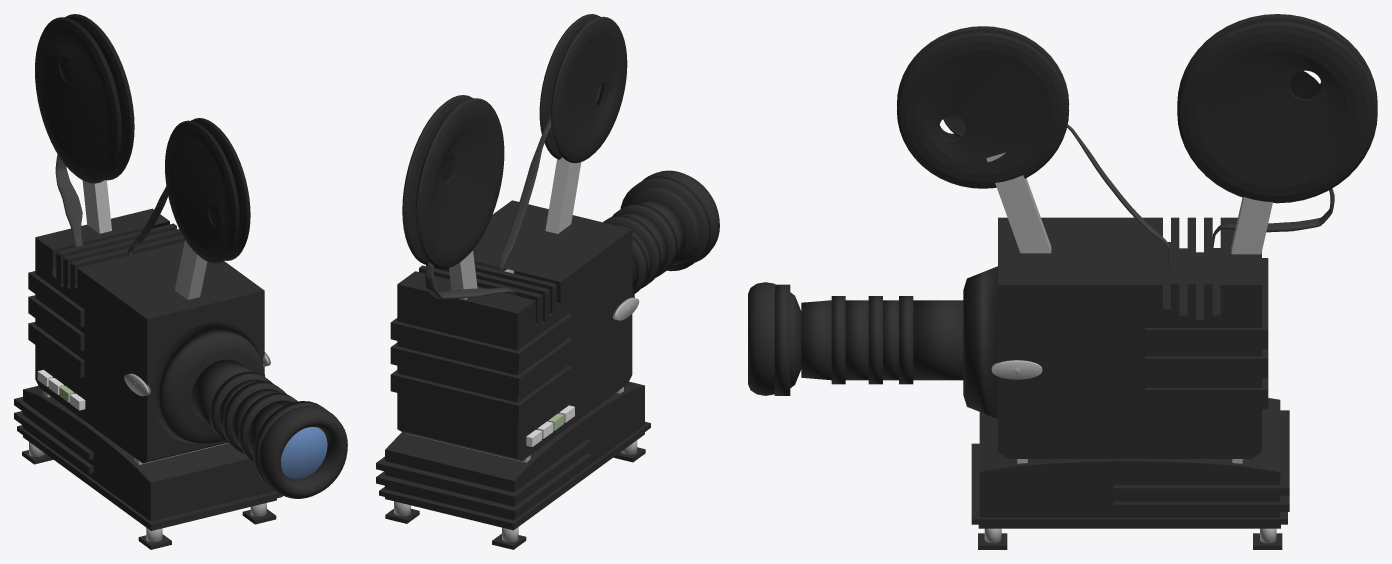
File: projector-transformed.glb
3 views of the same model, side by side, from view 1: azimuth 30°, elevation 25°; view 2: azimuth 150°, elevation 25°; view 3: azimuth 270°, elevation 25° (orthographic). The views are drawn at different scales.
Parts seen in each view (by area): view 1: Up_12, Bottom_2, tape dispencer_9, tape dispencer 2_10, Cylinder.001_14, Cylinder.005_15, Cylinder.007_17, tape stand 2_8, tape stand_7, Tape_11, plates_4, legs_3 (+2 smaller); view 2: Up_12, Bottom_2, tape dispencer_9, tape dispencer 2_10, Cylinder.005_15, Cylinder.001_14, tape stand 2_8, Cylinder.006_16, Cube_13, Tape_11, tape stand_7, plates_4 (+2 smaller); view 3: Up_12, tape dispencer_9, Bottom_2, tape dispencer 2_10, Cylinder.001_14, Cylinder.005_15, tape stand 2_8, tape stand_7, Cylinder.006_16, Cube_13, Tape_11, Cylinder.009_19.
Boxes of the visible parts, x1=… form: Up_12: x1=28, y1=208, x2=264, y2=463; Bottom_2: x1=14, y1=385, x2=282, y2=530; tape dispencer_9: x1=35, y1=14, x2=134, y2=183; tape dispencer 2_10: x1=165, y1=118, x2=250, y2=263; Cylinder.001_14: x1=191, y1=359, x2=347, y2=498; Cylinder.005_15: x1=209, y1=372, x2=327, y2=484; Cylinder.007_17: x1=281, y1=427, x2=327, y2=478; tape stand 2_8: x1=174, y1=239, x2=207, y2=299; tape stand_7: x1=82, y1=180, x2=111, y2=233; Tape_11: x1=55, y1=154, x2=83, y2=247; plates_4: x1=22, y1=450, x2=276, y2=549; legs_3: x1=29, y1=442, x2=266, y2=542; Up_12: x1=390, y1=200, x2=634, y2=461; Bottom_2: x1=376, y1=381, x2=650, y2=530; tape dispencer_9: x1=402, y1=95, x2=504, y2=268; tape dispencer 2_10: x1=539, y1=14, x2=627, y2=163; Cylinder.005_15: x1=603, y1=176, x2=711, y2=293; Cylinder.001_14: x1=610, y1=170, x2=719, y2=288; tape stand 2_8: x1=545, y1=157, x2=581, y2=233; Cylinder.006_16: x1=628, y1=187, x2=698, y2=264; Cube_13: x1=498, y1=115, x2=551, y2=270; Tape_11: x1=425, y1=262, x2=516, y2=298; tape stand_7: x1=449, y1=250, x2=477, y2=300; plates_4: x1=385, y1=447, x2=645, y2=549; Up_12: x1=963, y1=217, x2=1268, y2=458; tape dispencer_9: x1=1177, y1=14, x2=1377, y2=203; Bottom_2: x1=971, y1=398, x2=1289, y2=528; tape dispencer 2_10: x1=897, y1=26, x2=1069, y2=188; Cylinder.001_14: x1=748, y1=282, x2=963, y2=395; Cylinder.005_15: x1=774, y1=284, x2=913, y2=395; tape stand 2_8: x1=986, y1=152, x2=1051, y2=253; tape stand_7: x1=1231, y1=197, x2=1272, y2=254; Cylinder.006_16: x1=790, y1=292, x2=801, y2=387; Cube_13: x1=1067, y1=124, x2=1170, y2=274; Tape_11: x1=1212, y1=188, x2=1334, y2=252; Cylinder.009_19: x1=991, y1=360, x2=1042, y2=379.
Size of the model in its own units: 0.5107 by 1.51 by 1.74.
